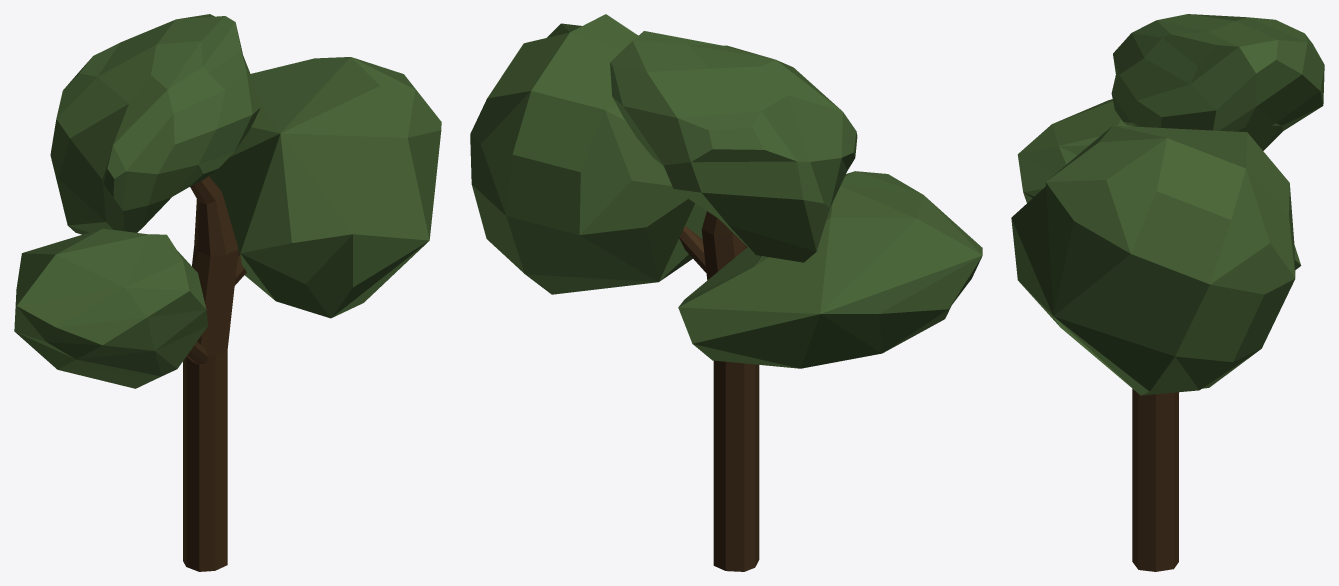
The model's file is Apple_Tree_1.fbx.
3 views of the same model, side by side, from view 1: azimuth 30°, elevation 25°; view 2: azimuth 150°, elevation 25°; view 3: azimuth 270°, elevation 25° (orthographic). The views are drawn at different scales.
Parts seen in each view (by area): view 1: Apple_Tree_1; view 2: Apple_Tree_1; view 3: Apple_Tree_1.
Boxes of the visible parts, x1,y1,x2,y2 form: Apple_Tree_1: (14,14,441,571); Apple_Tree_1: (470,14,982,571); Apple_Tree_1: (1011,14,1324,571).
Bounding box in the file's own units: 7.45 × 8.28 × 4.29.
